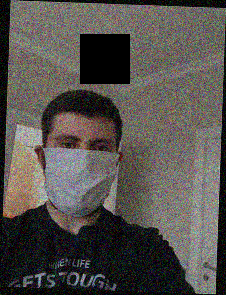with_mask: (42, 126, 118, 217)
